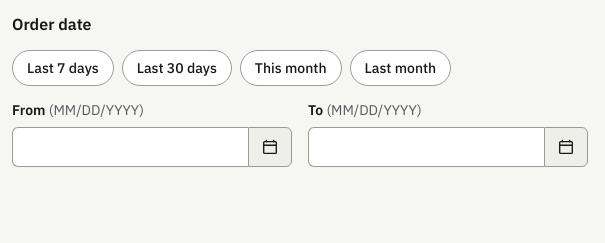
Test case: DateRangeInput › applies a preset and marks it pressed
Later steps or results of the test are not shown.
Click the button "Last 7 days" at [63, 68], box x1=12 y1=50 x2=114 y2=86
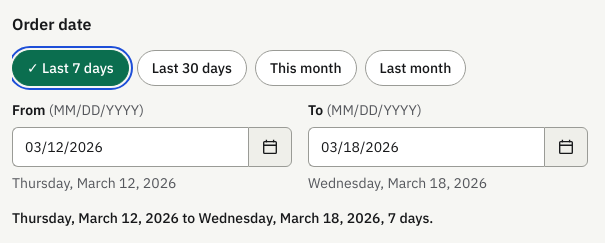
Expected: the field labelled "From (MM/DD/YYYY)" holds "03/12/2026", x1=12 y1=127 x2=248 y2=167
Expected: the field labelled "To (MM/DD/YYYY)" holds "03/18/2026", x1=308 y1=127 x2=544 y2=167
